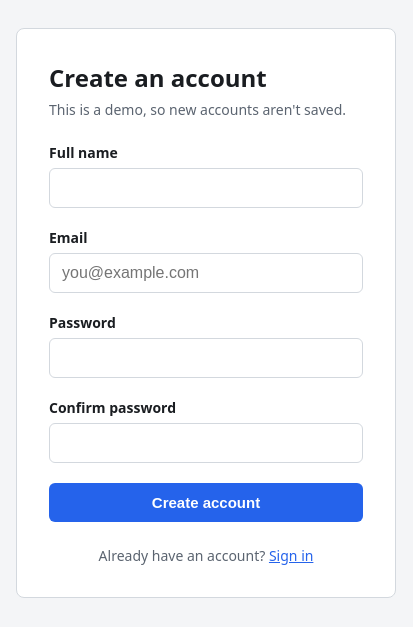
Test case: SignUpPage › rejects a password with no number in it
The width and height of the screenshot is (413, 627).
In the field labelled "Full name": (206, 188) left=49, top=168, right=363, bottom=208, type "Riley Chen"
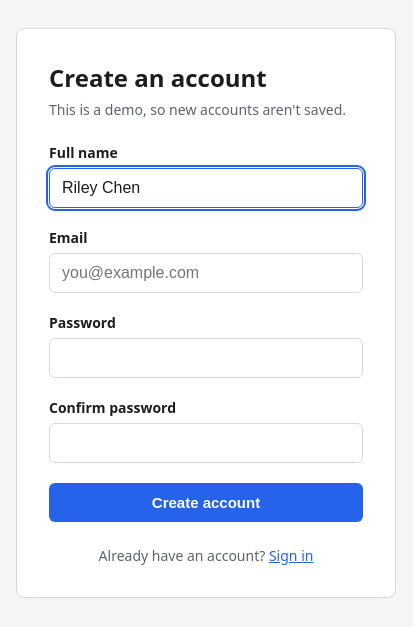
In the field labelled "Email": (206, 273) left=49, top=253, right=363, bottom=293, type "riley@example.com"
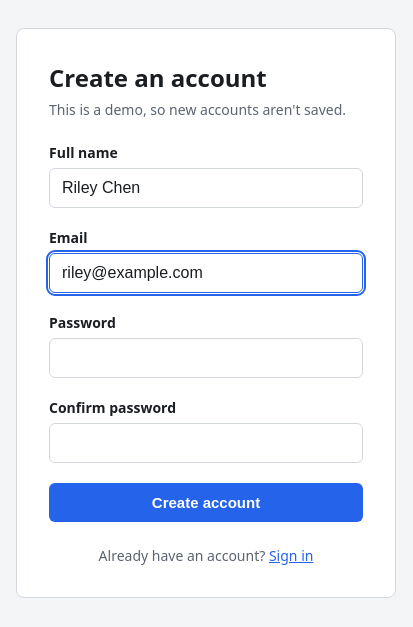
In the password field labelled "Password": (206, 358) left=49, top=338, right=363, bottom=378, type "passwords"
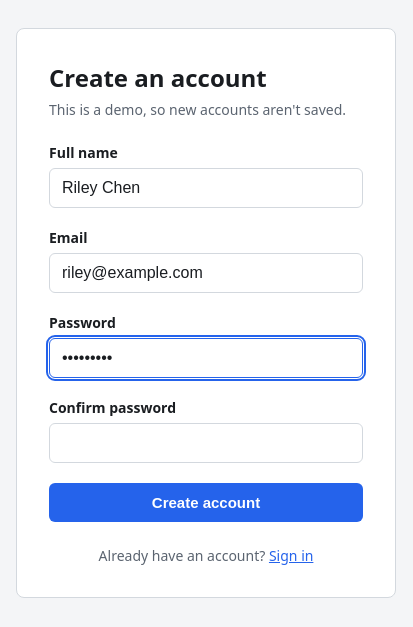
In the password field labelled "Confirm password": (206, 443) left=49, top=423, right=363, bottom=463, type "passwords"
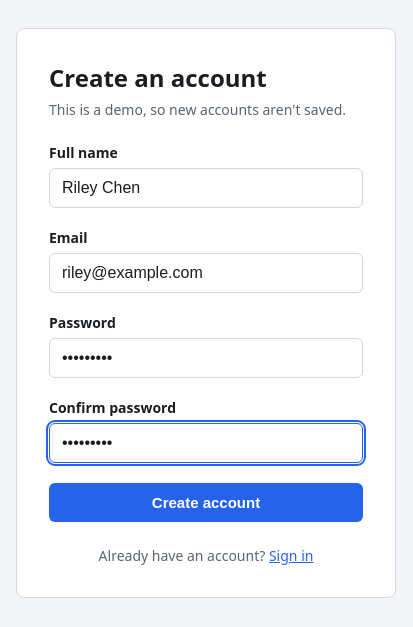
Click the button "Create account": (206, 502) left=49, top=483, right=363, bottom=522
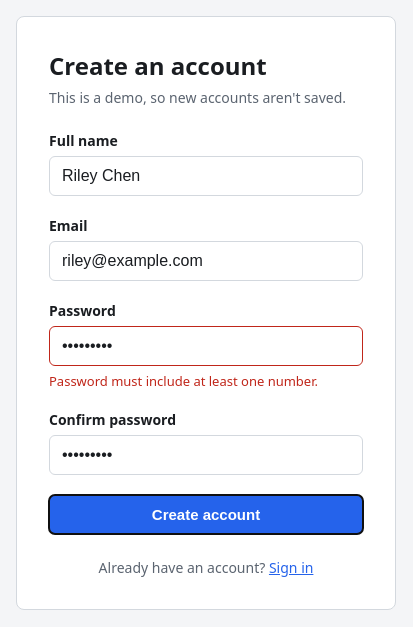
Result: the text "Password must include at least one number." is shown at left=49, top=372, right=363, bottom=390
